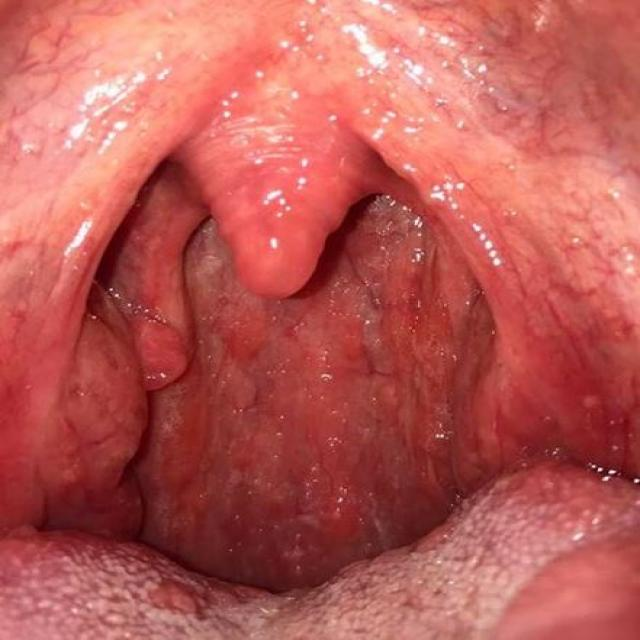Non Pharyngitis: (436, 184, 612, 486), (20, 278, 200, 527)
